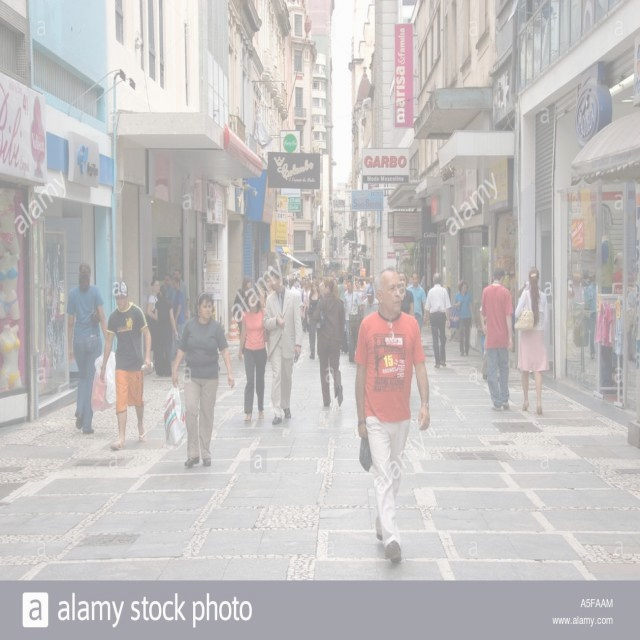pessoa: (353, 264, 436, 566), (161, 290, 236, 470), (566, 228, 636, 390), (98, 278, 153, 451), (65, 260, 109, 436), (262, 266, 305, 428), (512, 264, 550, 416), (0, 188, 27, 396), (480, 264, 515, 412), (311, 276, 348, 408), (238, 286, 271, 424), (422, 270, 452, 370), (152, 283, 180, 377), (452, 278, 476, 358), (281, 272, 374, 292), (233, 276, 254, 356), (342, 279, 362, 355), (161, 272, 177, 363), (308, 279, 324, 360), (406, 272, 427, 332), (172, 276, 186, 359), (146, 276, 160, 352), (173, 268, 190, 320), (175, 168, 201, 202), (398, 270, 416, 318), (477, 302, 488, 380), (256, 267, 274, 309), (517, 264, 538, 300), (478, 306, 488, 381), (358, 286, 380, 319), (402, 267, 431, 291), (300, 279, 312, 336), (445, 303, 461, 343), (164, 236, 184, 266), (290, 278, 304, 320), (336, 276, 348, 304), (354, 280, 364, 298)
